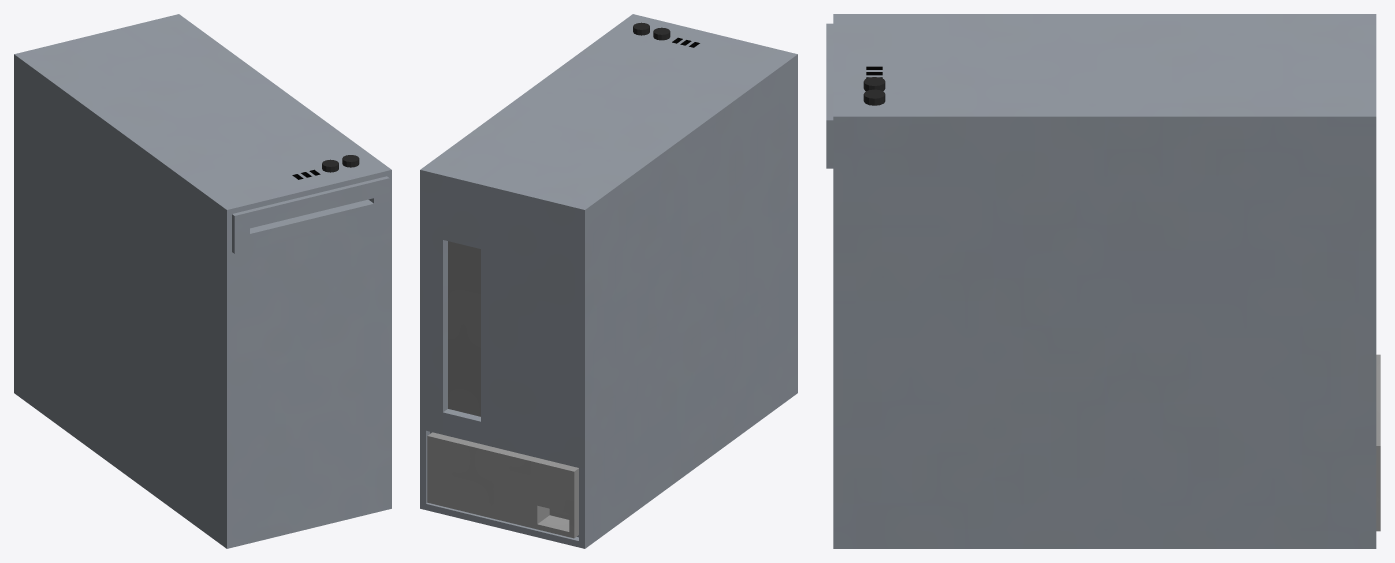
The model's file is Desktop_02.fbx.
3 renders of one model, left to right at view 1: azimuth 30°, elevation 25°; view 2: azimuth 150°, elevation 25°; view 3: azimuth 270°, elevation 25°, orthographic. The views are drawn at different scales.
Parts seen in each view (by area): view 1: Desktop_02; view 2: Desktop_02; view 3: Desktop_02.
Part boxes in pixels (left/top/right/bottom): Desktop_02: left=14, top=14, right=391, bottom=548; Desktop_02: left=420, top=14, right=797, bottom=548; Desktop_02: left=826, top=14, right=1380, bottom=548.
Bounding box in the file's own units: 0.2553 × 0.5094 × 0.5823.
